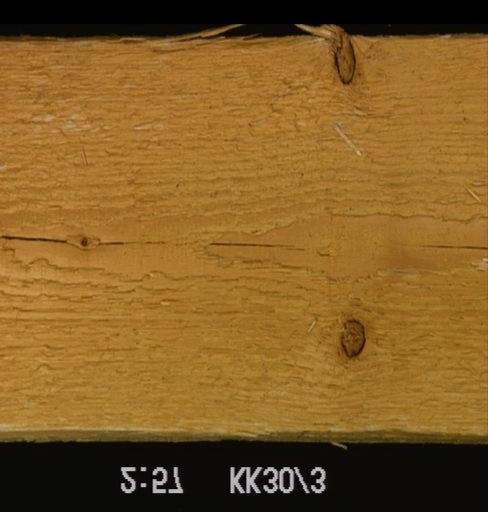dry_knot: (337, 315, 365, 360)
edge_knot: (330, 35, 357, 86)
split: (3, 238, 310, 262), (390, 238, 486, 261)
wave: (0, 426, 485, 441)
